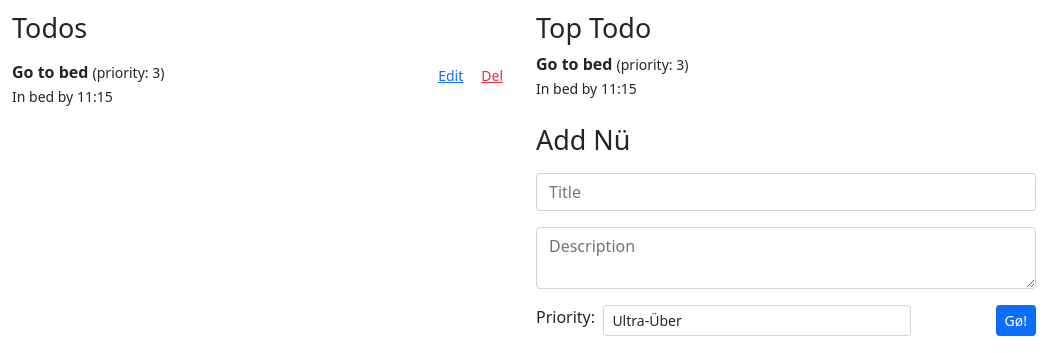
Scenario: main TodoApp component › creating new todo that is the top
In the field labelled "Title": (786, 192) left=536, top=173, right=1036, bottom=211, type "test-title"
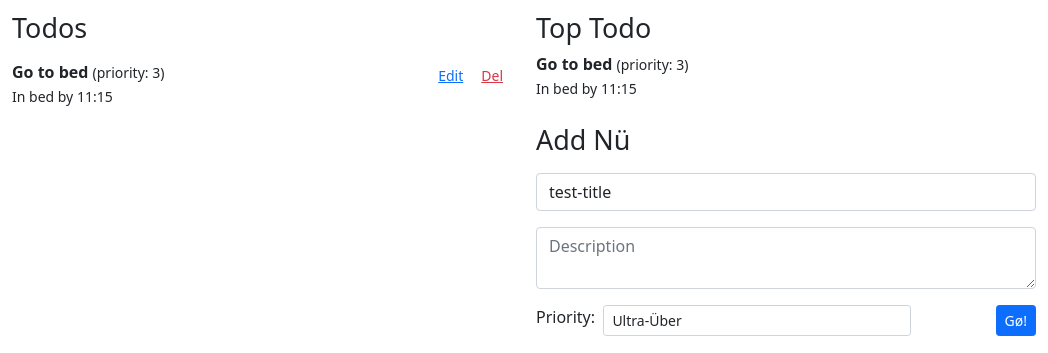
In the text box labelled "Description": (786, 258) left=536, top=227, right=1036, bottom=289, type "test-description"
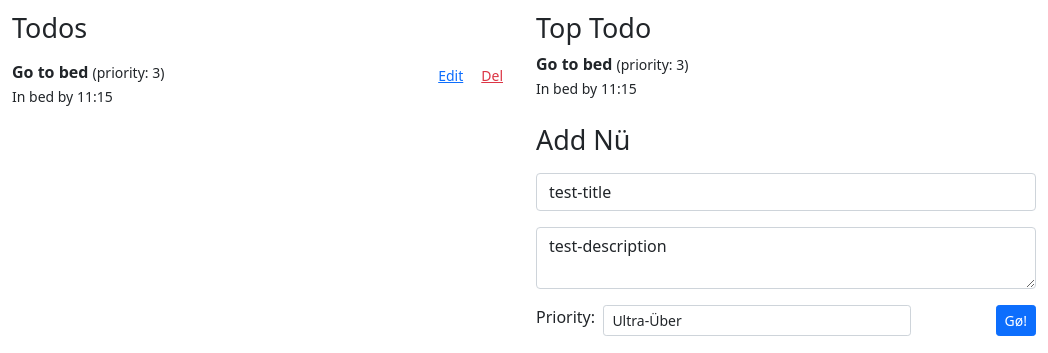
Click the button "Gø!": (1016, 320) left=996, top=305, right=1036, bottom=336
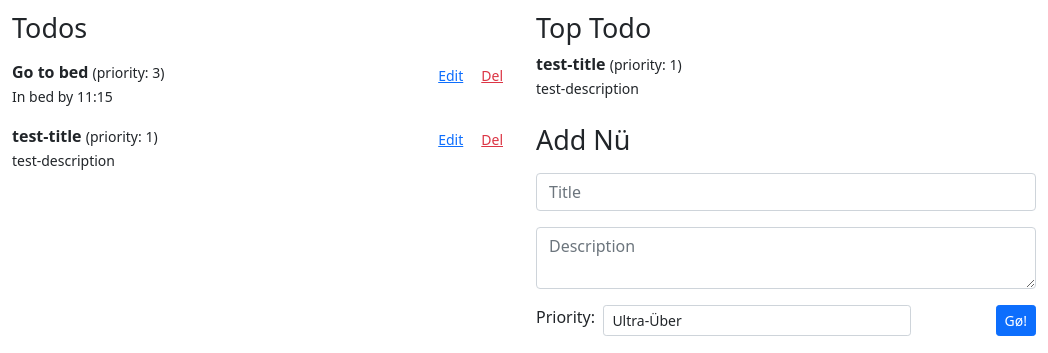
Now the text "test-title" is shown 2 times, box left=12, top=125, right=82, bottom=147; left=536, top=53, right=606, bottom=75
Now the text "test-description" is shown 2 times, box left=12, top=151, right=115, bottom=170; left=536, top=79, right=639, bottom=98
Now the text "(priority: 1)" is shown 2 times, box left=86, top=127, right=158, bottom=146; left=610, top=55, right=682, bottom=74
